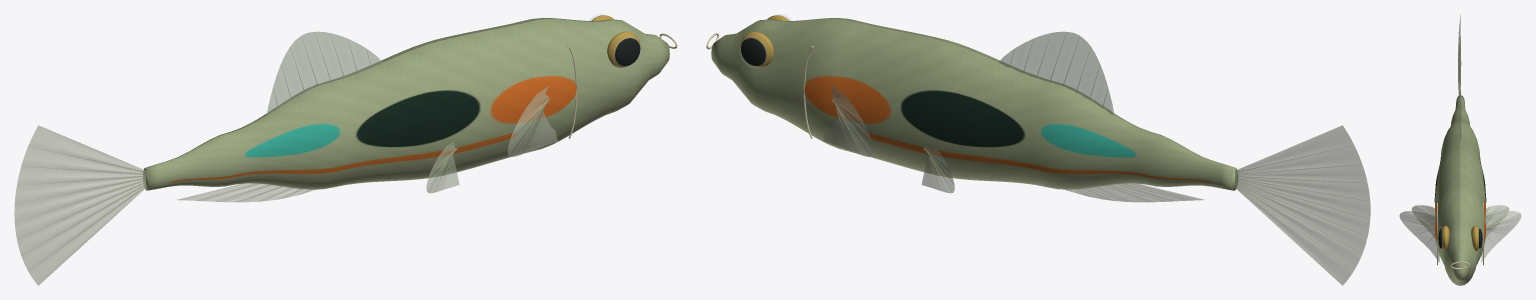
The model's file is endler-mobile.glb.
The picture shows the model from 3 angles, left to right: view 1: azimuth 30°, elevation 25°; view 2: azimuth 150°, elevation 25°; view 3: azimuth 270°, elevation 25°; orthographic projection. The views are drawn at different scales.
Parts seen in each view (by area): view 1: skin, tail, dorsal, dorsal-ray, pectoral-right, anal, pelvic-right, eye-pupil--1, eye-iris--1; view 2: skin, tail, dorsal, dorsal-ray, pectoral-left, anal, pelvic-left, eye-pupil--1, eye-iris--1; view 3: skin, pectoral-left, pectoral-right, pelvic-left, pelvic-right, eye-iris--1, dorsal-ray, tail, operculum, eye-pupil--1, dorsal.
Part boxes in pixels (x1,y1,x2,y2): skin: [143, 18, 669, 190]; tail: [14, 125, 145, 285]; dorsal: [267, 31, 382, 114]; dorsal-ray: [15, 32, 549, 269]; pectoral-right: [508, 86, 557, 156]; anal: [177, 183, 315, 202]; pelvic-right: [426, 141, 459, 193]; eye-pupil--1: [615, 38, 640, 65]; eye-iris--1: [591, 15, 640, 67]; skin: [711, 18, 1237, 190]; tail: [1235, 125, 1370, 285]; dorsal: [998, 31, 1114, 115]; dorsal-ray: [832, 38, 1369, 265]; pectoral-left: [823, 86, 873, 156]; anal: [1065, 183, 1203, 202]; pelvic-left: [921, 141, 954, 193]; eye-pupil--1: [741, 38, 766, 65]; eye-iris--1: [740, 15, 789, 67]; skin: [1434, 95, 1486, 285]; pectoral-left: [1481, 211, 1521, 262]; pectoral-right: [1399, 211, 1439, 262]; pelvic-left: [1485, 205, 1509, 237]; pelvic-right: [1411, 205, 1435, 237]; eye-iris--1: [1442, 225, 1478, 250]; dorsal-ray: [1405, 32, 1517, 241]; tail: [1458, 14, 1461, 95]; operculum: [1437, 203, 1483, 269]; eye-pupil--1: [1438, 229, 1482, 248]; dorsal: [1459, 83, 1461, 140].
Size of the model in its own units: 0.5912 by 0.1609 by 0.1425.
Materials: 11 (1 with a texture image).
